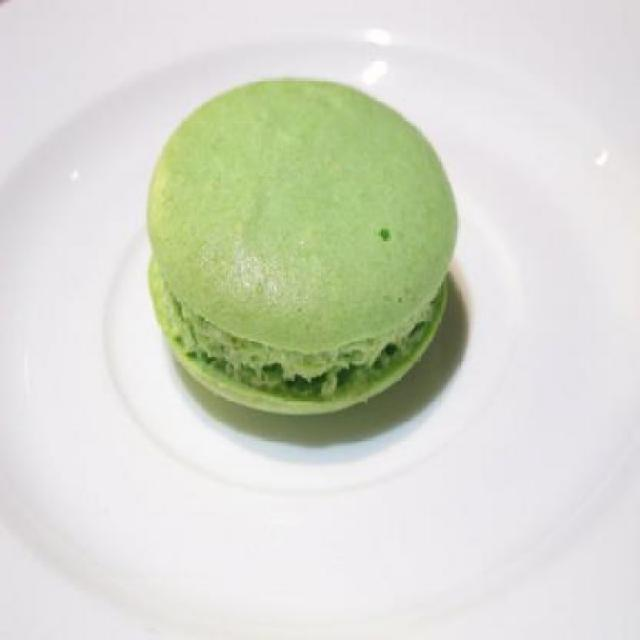Macaron: (142, 77, 460, 440)
